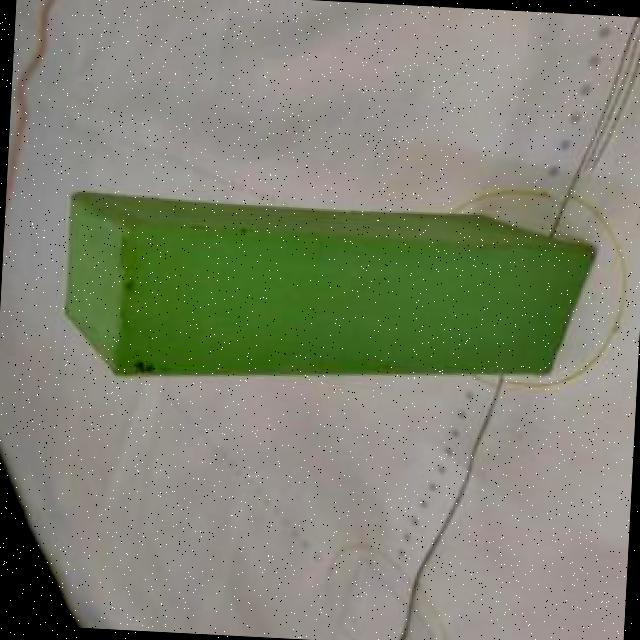greenbox: (60, 192, 597, 398)
